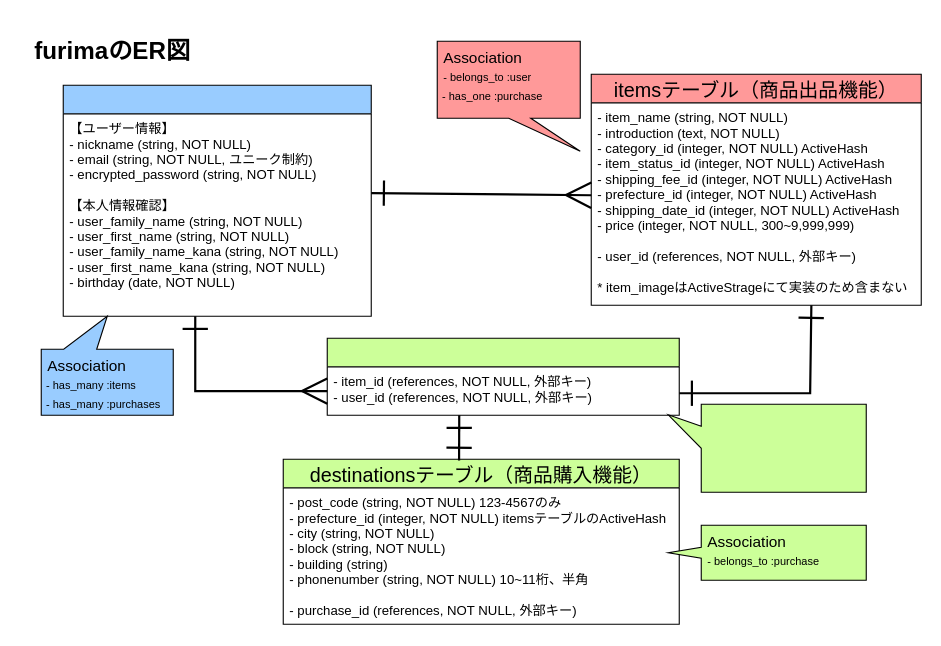
This 941x646 diagram has some shape labels left out. Each missing label, with the box of its shape:
Association - belongs_to :user - belongs_to :item - has_one :destination: (667, 403, 866, 492)
purchasesテーブル（商品購入機能）: (326, 337, 679, 415)
usersテーブル（ユーザー管理）: (62, 84, 371, 316)
